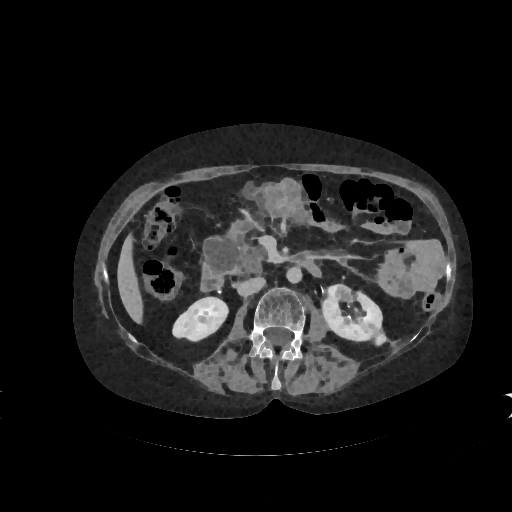Lesion: (334, 283, 359, 308)
